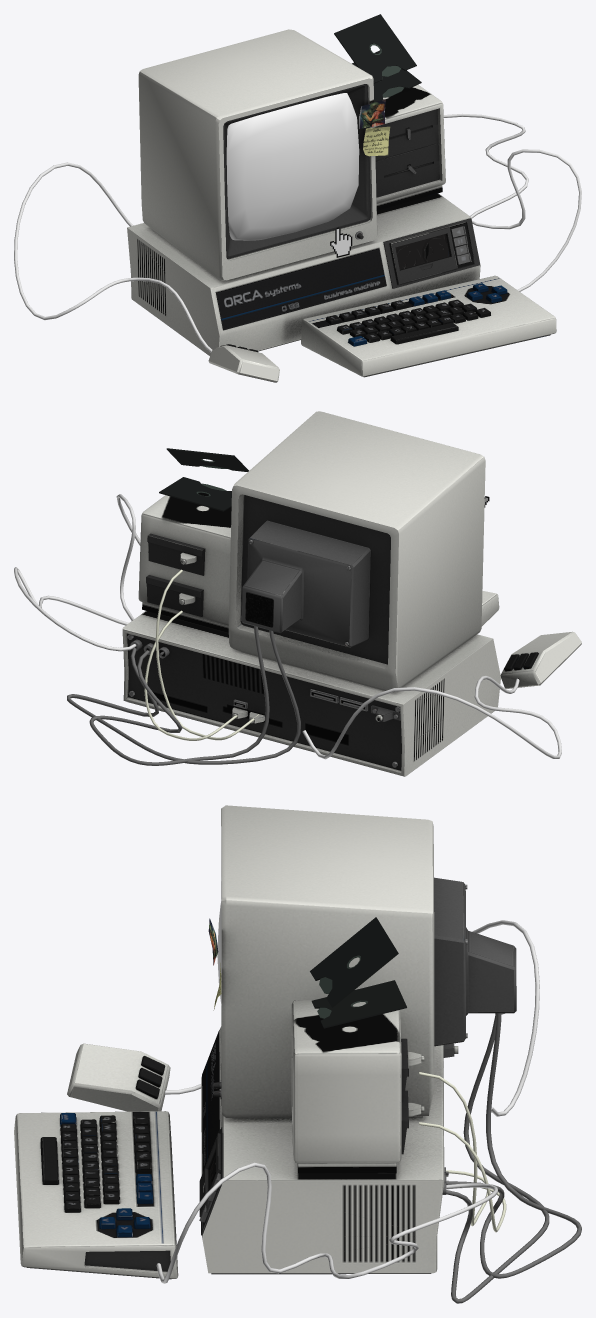
The picture shows the model from 3 angles, top to bottom: view 1: azimuth 30°, elevation 25°; view 2: azimuth 150°, elevation 25°; view 3: azimuth 270°, elevation 25°; orthographic projection. The views are drawn at different scales.
Parts seen in each view (by area): view 1: Cube.003, screen, Cube.003_1.002, Cube.003_1.003, Cube_1, BézierCurve.001, BézierCurve, Cube.003_1.001, Cube_1.001, Cube.003_1.005, Cube.003_1.004; view 2: Cube.003, Cube.003_1.003, Cube.003_1.001, BezierCurve.001, BezierCurve, BézierCurve, BézierCurve.001, Cube_1.001, Cube_1, BezierCurve.002, BezierCurve.003; view 3: Cube.003, Cube.003_1.002, Cube.003_1.003, Cube.003_1.001, Cube_1, BézierCurve.001, BezierCurve, Cube_1.001, BezierCurve.001, BézierCurve, BezierCurve.002, BezierCurve.003.
Boxes of the visible parts, x1,y1,x2,y2 form: Cube.003: (127,29,480,355); screen: (226,93,359,240); Cube.003_1.002: (301,275,556,377); Cube.003_1.003: (374,84,445,210); Cube_1: (334,14,416,83); BézierCurve.001: (443,113,581,291); BézierCurve: (14,162,212,352); Cube.003_1.001: (208,344,279,382); Cube_1.001: (352,50,421,102); Cube.003_1.005: (363,126,390,156); Cube.003_1.004: (359,99,385,128); Cube.003: (122,411,500,776); Cube.003_1.003: (138,492,231,633); Cube.003_1.001: (500,631,581,688); BezierCurve.001: (67,630,300,764); BezierCurve: (89,626,269,765); BézierCurve: (302,675,561,759); BézierCurve.001: (14,494,140,651); Cube_1.001: (159,477,231,511); Cube_1: (166,448,248,471); BezierCurve.002: (155,569,258,740); BezierCurve.003: (144,610,237,740); Cube.003: (199,805,516,1274); Cube.003_1.002: (14,1111,178,1279); Cube.003_1.003: (291,1000,424,1173); Cube.003_1.001: (67,1043,170,1111); Cube_1: (310,917,398,1007); BézierCurve.001: (156,1162,497,1283); BezierCurve: (446,1014,581,1278); Cube_1.001: (311,980,406,1028); BezierCurve.001: (446,1014,549,1303); BézierCurve: (165,920,539,1116); BezierCurve.002: (419,1072,487,1226); BezierCurve.003: (419,1122,506,1232).
Size of the model in its own units: 6.8 by 3.18 by 5.08.
17 materials, 4 textured.
